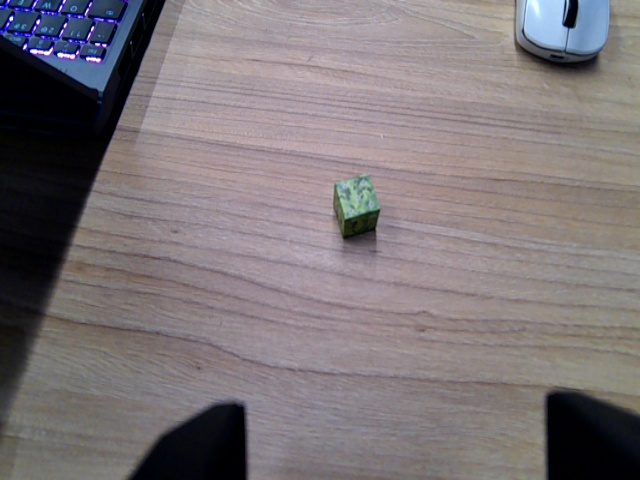grass: (327, 171, 382, 241)
